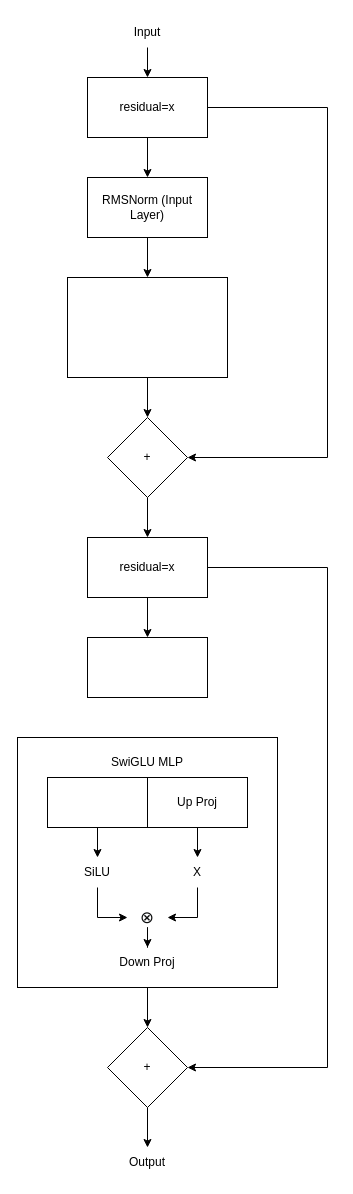
This 353x1194 diagram has some shape labels left out. Each missing label, with the centre of its shape:
"EfficientAttention - GQA (8->2 heads) - Sliding Window (16)" belongs at [147,327].
"Gate Proj" belongs at [97,802].
"RMSNorm (Post Attention)" belongs at [147,667].
